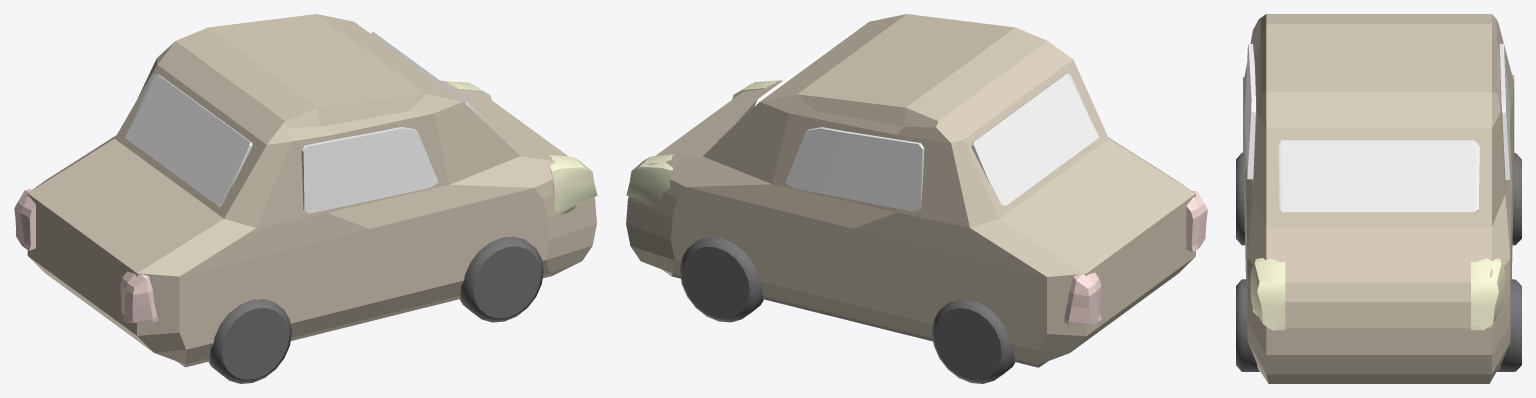
File: CarroVeige.fbx
The picture shows the model from 3 angles, left to right: view 1: azimuth 30°, elevation 25°; view 2: azimuth 150°, elevation 25°; view 3: azimuth 270°, elevation 25°; orthographic projection. The views are drawn at different scales.
Parts seen in each view (by area): view 1: pCube1, pCube10, pCube8, pCylinder1, pCylinder2, pCube11, pCube9, pCube6; view 2: pCube1, pCube10, pCube12, pCylinder3, pCylinder4, pCube11, pCube9, pCube6; view 3: pCube1, pCube6, pCube9, pCube8, pCylinder1, pCylinder3, pCube12, pCylinder4, pCylinder2.
Part boxes in pixels (x1,y1,x2,y2): pCube1: (27,14,596,367); pCube10: (125,74,252,206); pCube8: (301,127,438,213); pCylinder1: (460,236,543,322); pCylinder2: (209,299,291,383); pCube11: (14,188,158,323); pCube9: (445,81,597,214); pCube6: (371,31,505,140); pCube1: (626,14,1195,367); pCube10: (971,73,1099,206); pCube12: (785,127,924,211); pCylinder3: (680,237,763,322); pCylinder4: (932,299,1015,383); pCube11: (1063,191,1207,324); pCube9: (626,80,781,208); pCube6: (717,31,853,141); pCube1: (1243,14,1514,383); pCube6: (1278,140,1479,212); pCube9: (1250,257,1505,330); pCube8: (1244,44,1255,179); pCylinder1: (1236,279,1259,371); pCylinder3: (1496,279,1521,371); pCube12: (1499,43,1510,179); pCylinder4: (1512,153,1521,245); pCylinder2: (1236,152,1244,245).
Size of the model in its own units: 21.67 by 10.94 by 11.09.
